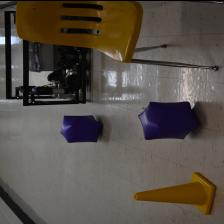cone: (133, 170, 215, 214)
cube: (138, 100, 200, 140), (60, 114, 102, 142)
